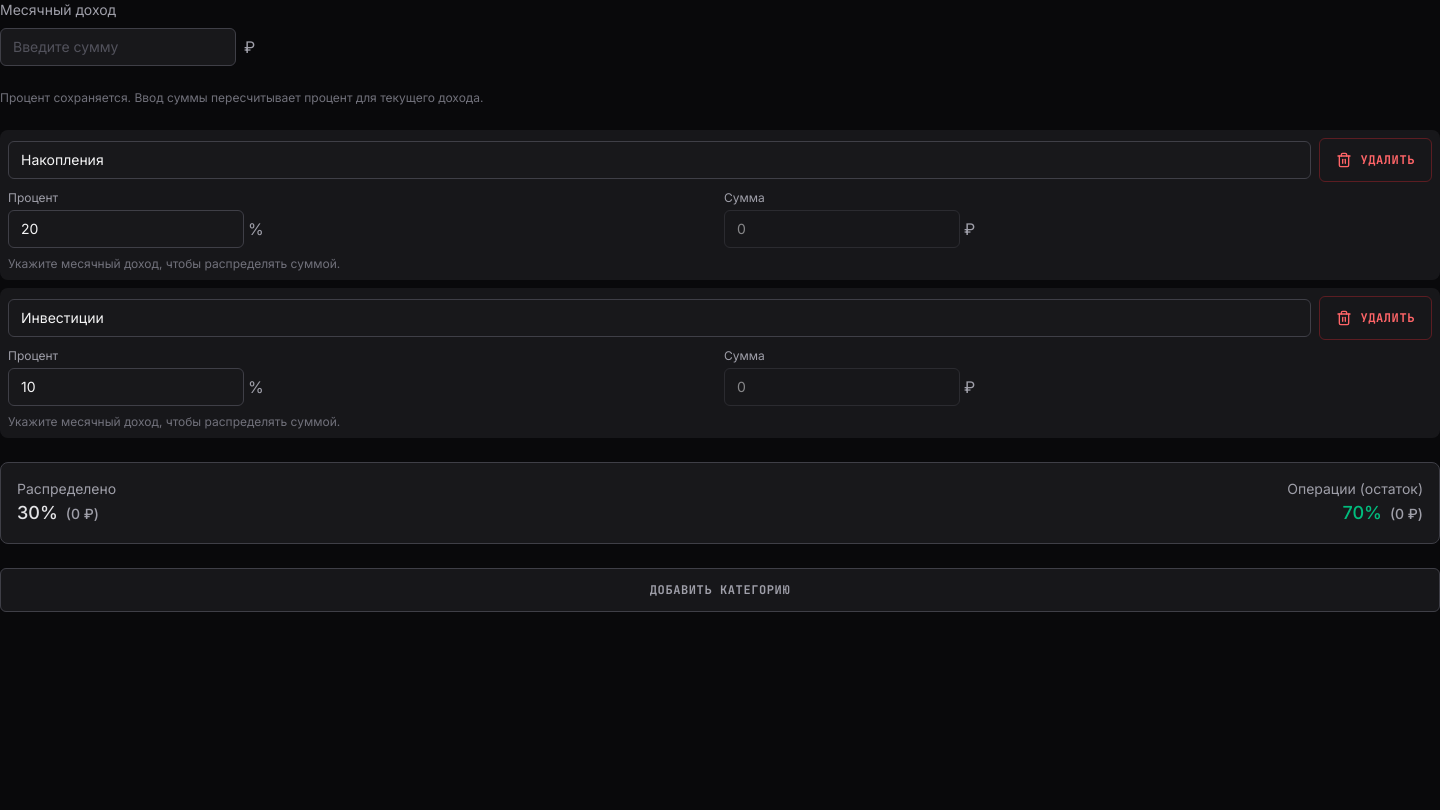
BucketEditor › opens confirmation dialog when delete bucket button is clicked
Click the 1st button "Удалить": click(1376, 160) [1319,138,1432,182]
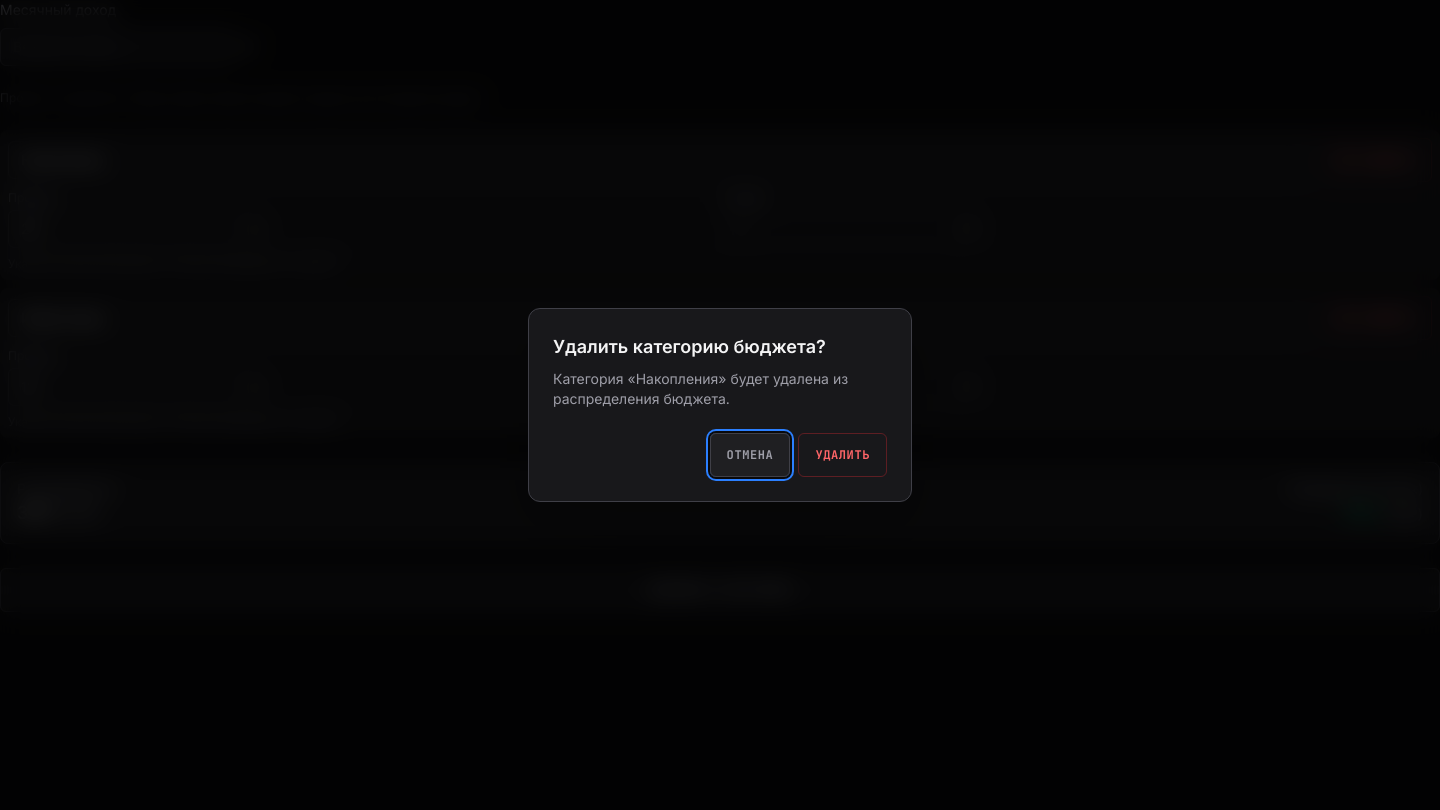
Now the dialog is shown, box [528,308,912,502]
Now the heading "Удалить категорию бюджета?" is shown, box [553,336,826,357]
Now the text "Категория «Накопления» будет удалена из распределения бюджета." is shown, box [553,369,887,409]
